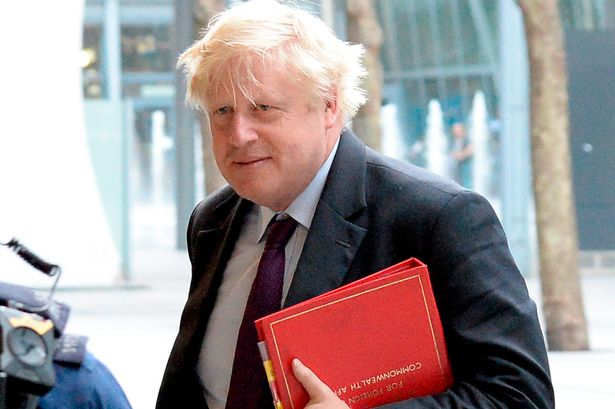red folder: (241, 258, 465, 409)
